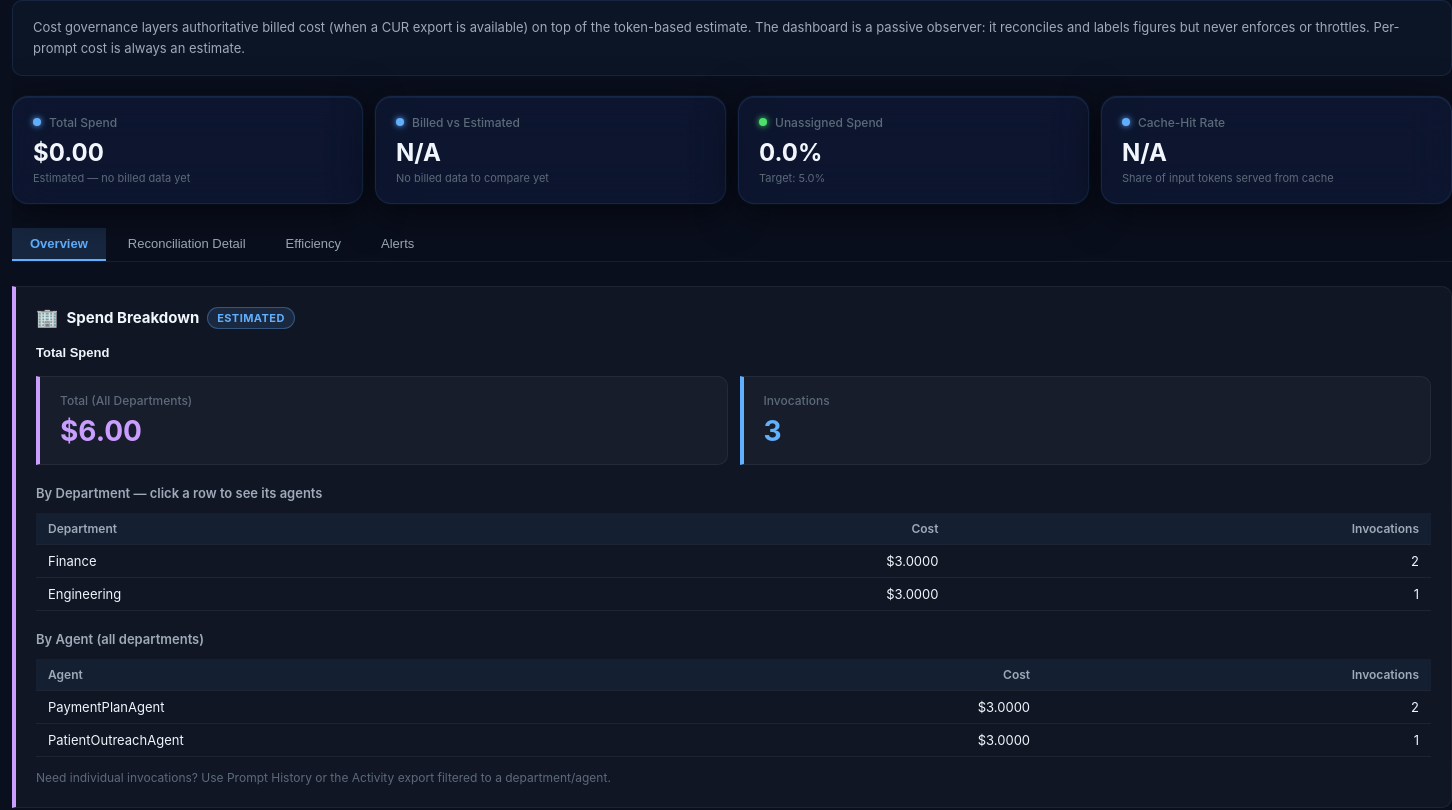
CostGovernanceTab — segmented navigation › switches to Efficiency
The width and height of the screenshot is (1452, 810).
Step 1. Click the button with test id "segment-efficiency" → {"x": 313, "y": 244}, box [268,228,359,261]
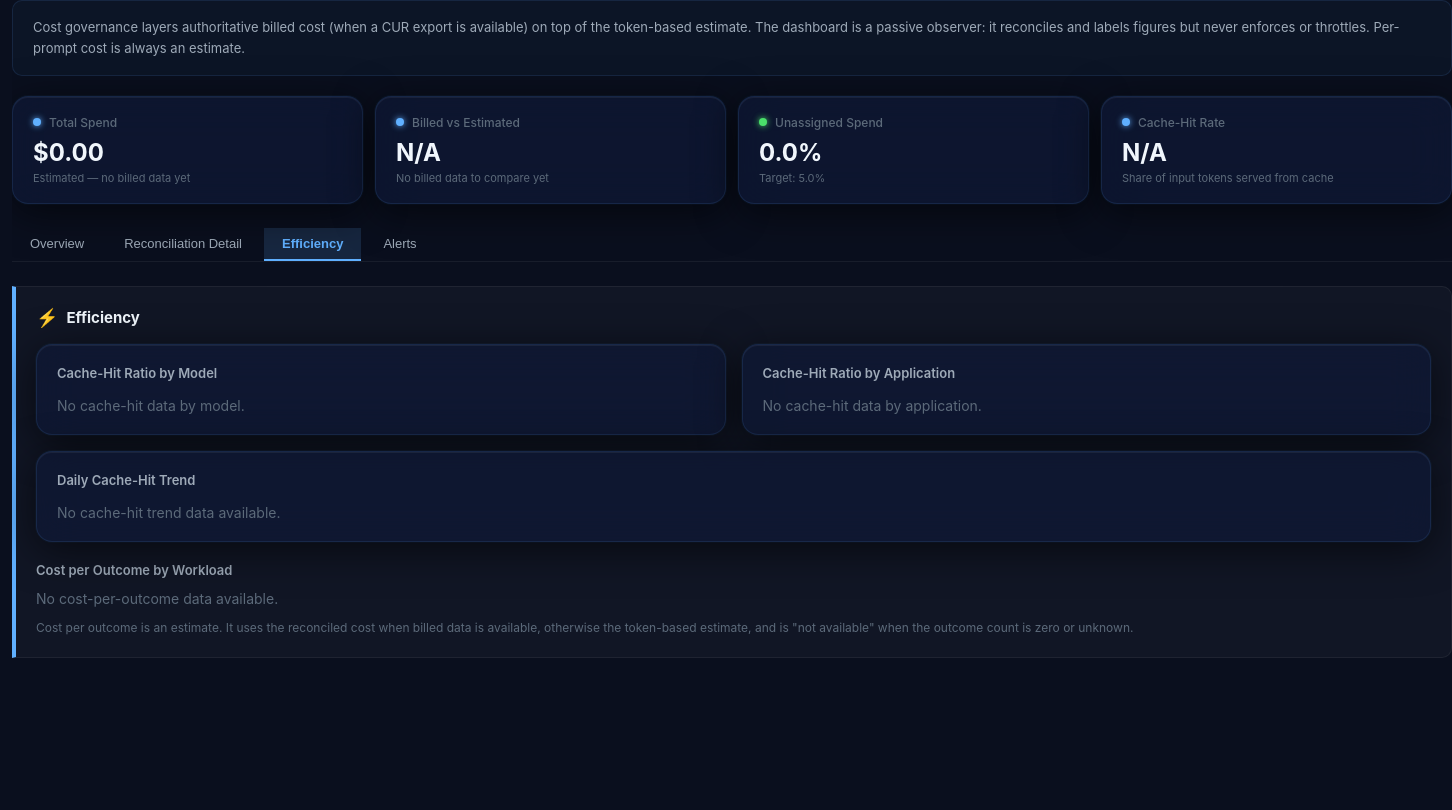
Check: the element with test id "segment-panel-efficiency" is shown, box [12,286,1451,658]
